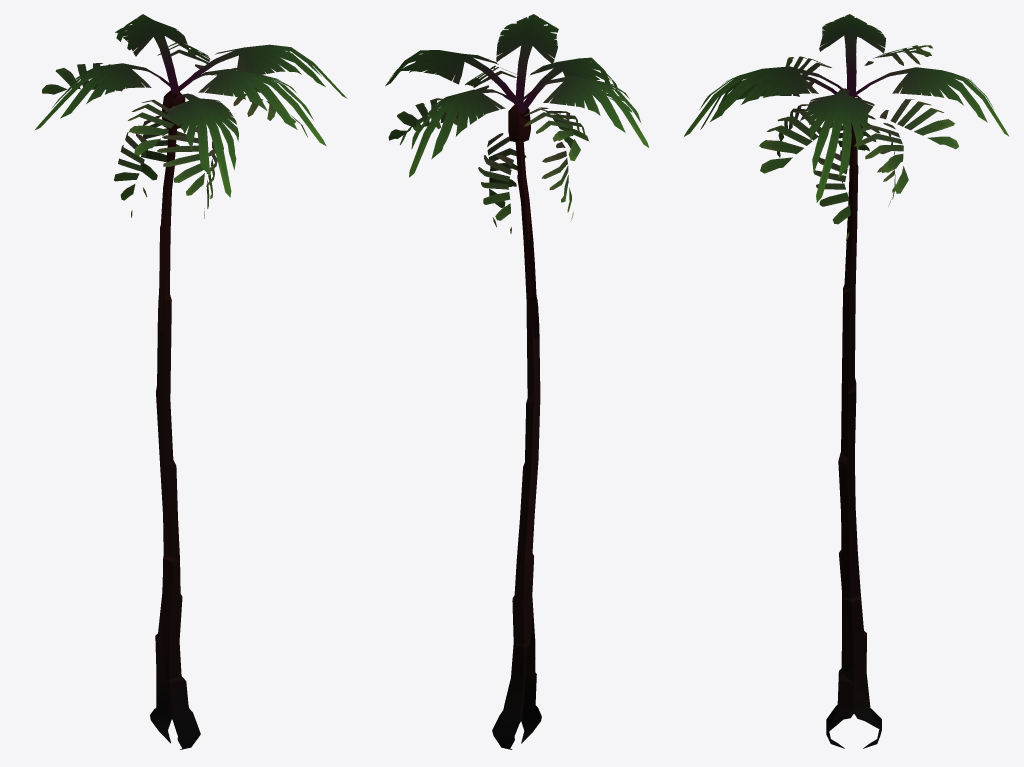
The model's file is trp_palm3.glb.
3 renders of one model, left to right at view 1: azimuth 30°, elevation 25°; view 2: azimuth 150°, elevation 25°; view 3: azimuth 270°, elevation 25°, orthographic. The views are drawn at different scales.
Parts seen in each view (by area): view 1: SM_Env_Tree_Palm_03_LOD0; view 2: SM_Env_Tree_Palm_03_LOD0; view 3: SM_Env_Tree_Palm_03_LOD0.
Boxes of the visible parts, x1,y1,x2,y2 form: SM_Env_Tree_Palm_03_LOD0: (34,14,347,749); SM_Env_Tree_Palm_03_LOD0: (385,14,649,749); SM_Env_Tree_Palm_03_LOD0: (684,14,1009,748).
Size of what is drawn, in the model's own units: 5.2 by 11.96 by 5.06.
Materials: 1 (1 with a texture image).
